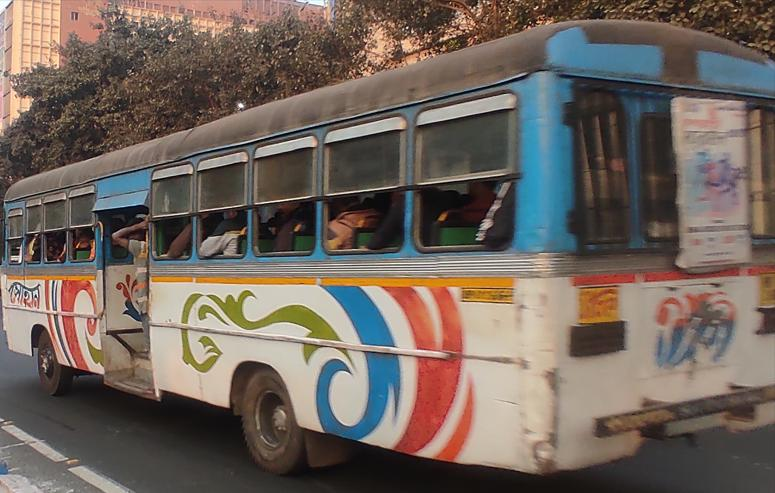Bus: (4, 21, 775, 487)
